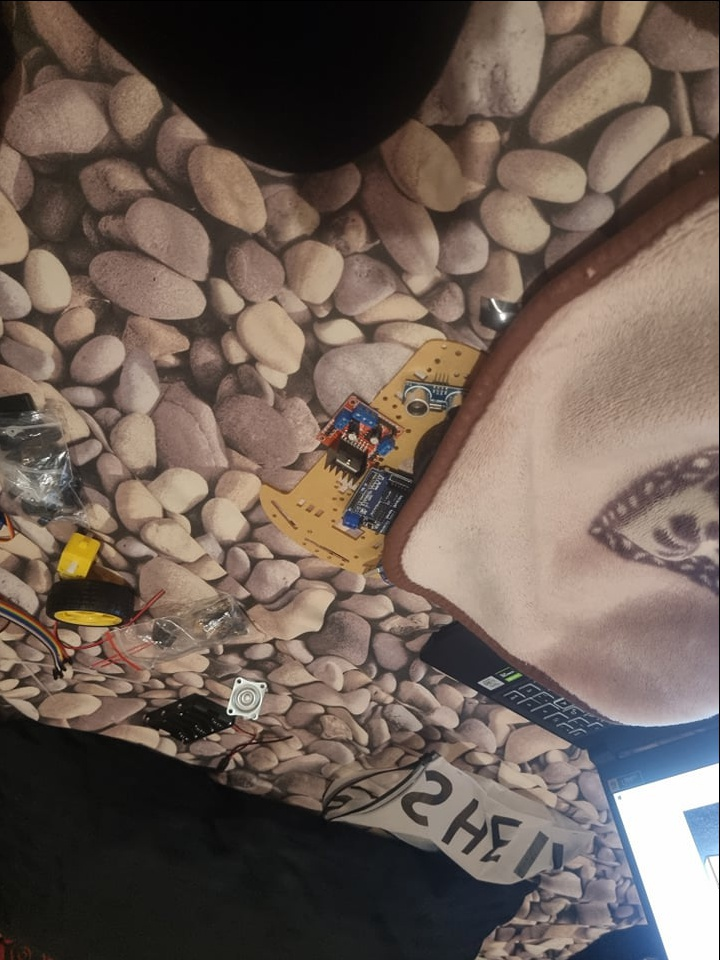5V EXPANSION: (342, 466, 416, 536)
BATTERY BOX: (147, 693, 233, 748)
MOTOR: (316, 392, 401, 482)
SENSOR: (403, 385, 470, 420)
